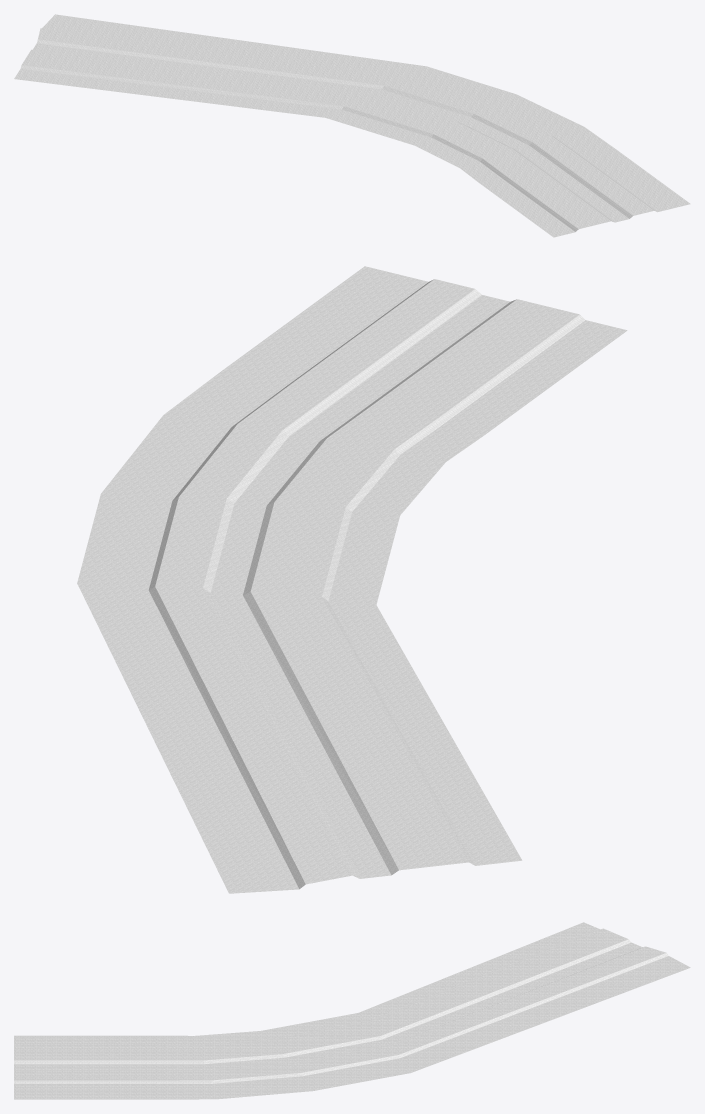
File: RailGround_B_001.fbx
3 renders of one model, top to bottom at view 1: azimuth 30°, elevation 25°; view 2: azimuth 150°, elevation 25°; view 3: azimuth 270°, elevation 25°, orthographic. The views are drawn at different scales.
Parts seen in each view (by area): view 1: RailGround_B_001; view 2: RailGround_B_001; view 3: RailGround_B_001.
Part boxes in pixels (x1,y1,x2,y2): RailGround_B_001: [14, 14, 690, 237]; RailGround_B_001: [77, 266, 627, 893]; RailGround_B_001: [14, 922, 690, 1099].
Size of the model in its own units: 12500 by 69.84 by 20152.
Materials: 1 (1 with a texture image).
